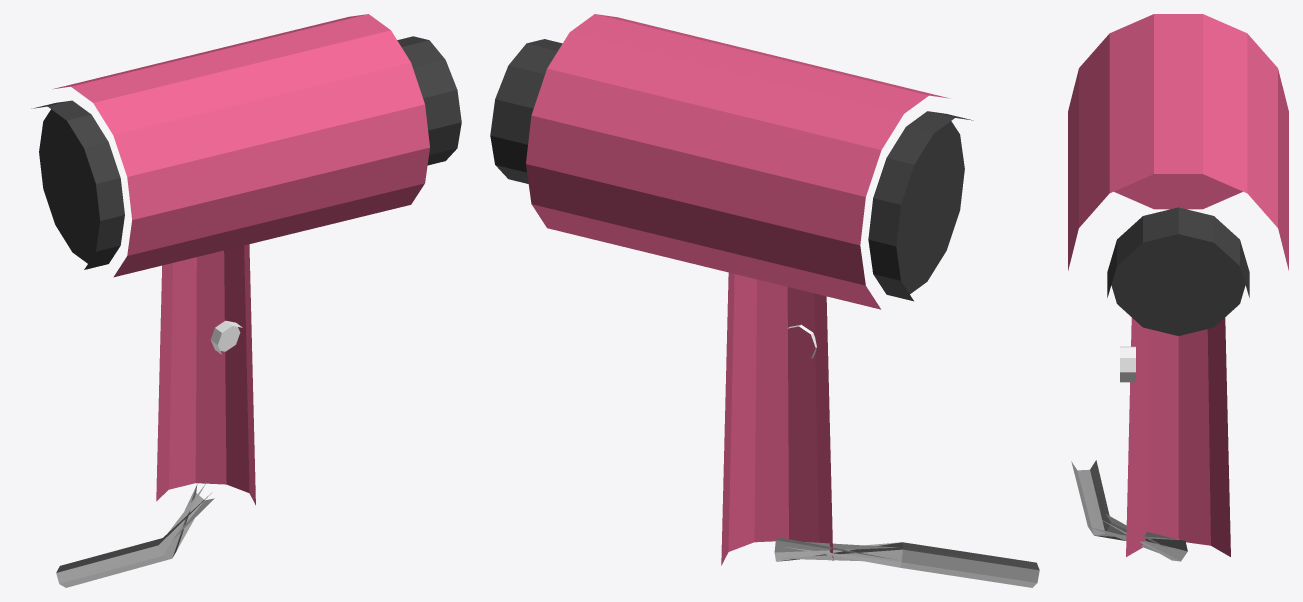
The model's file is hartork.glb.
The picture shows the model from 3 angles, left to right: view 1: azimuth 30°, elevation 25°; view 2: azimuth 150°, elevation 25°; view 3: azimuth 270°, elevation 25°; orthographic projection. The views are drawn at different scales.
Visible parts, largest first — view 1: hartork; view 2: hartork; view 3: hartork.
Boxes of the visible parts, x1=… form: hartork: x1=31, y1=14, x2=461, y2=587; hartork: x1=490, y1=14, x2=1039, y2=587; hartork: x1=1068, y1=14, x2=1288, y2=561.
Size of the model in its own units: 0.3309 by 0.3452 by 0.14.
